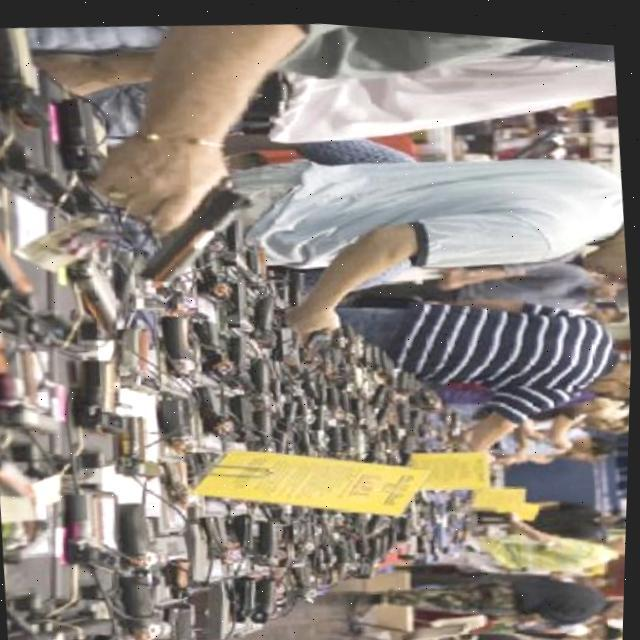gun: (100, 132, 284, 292)
